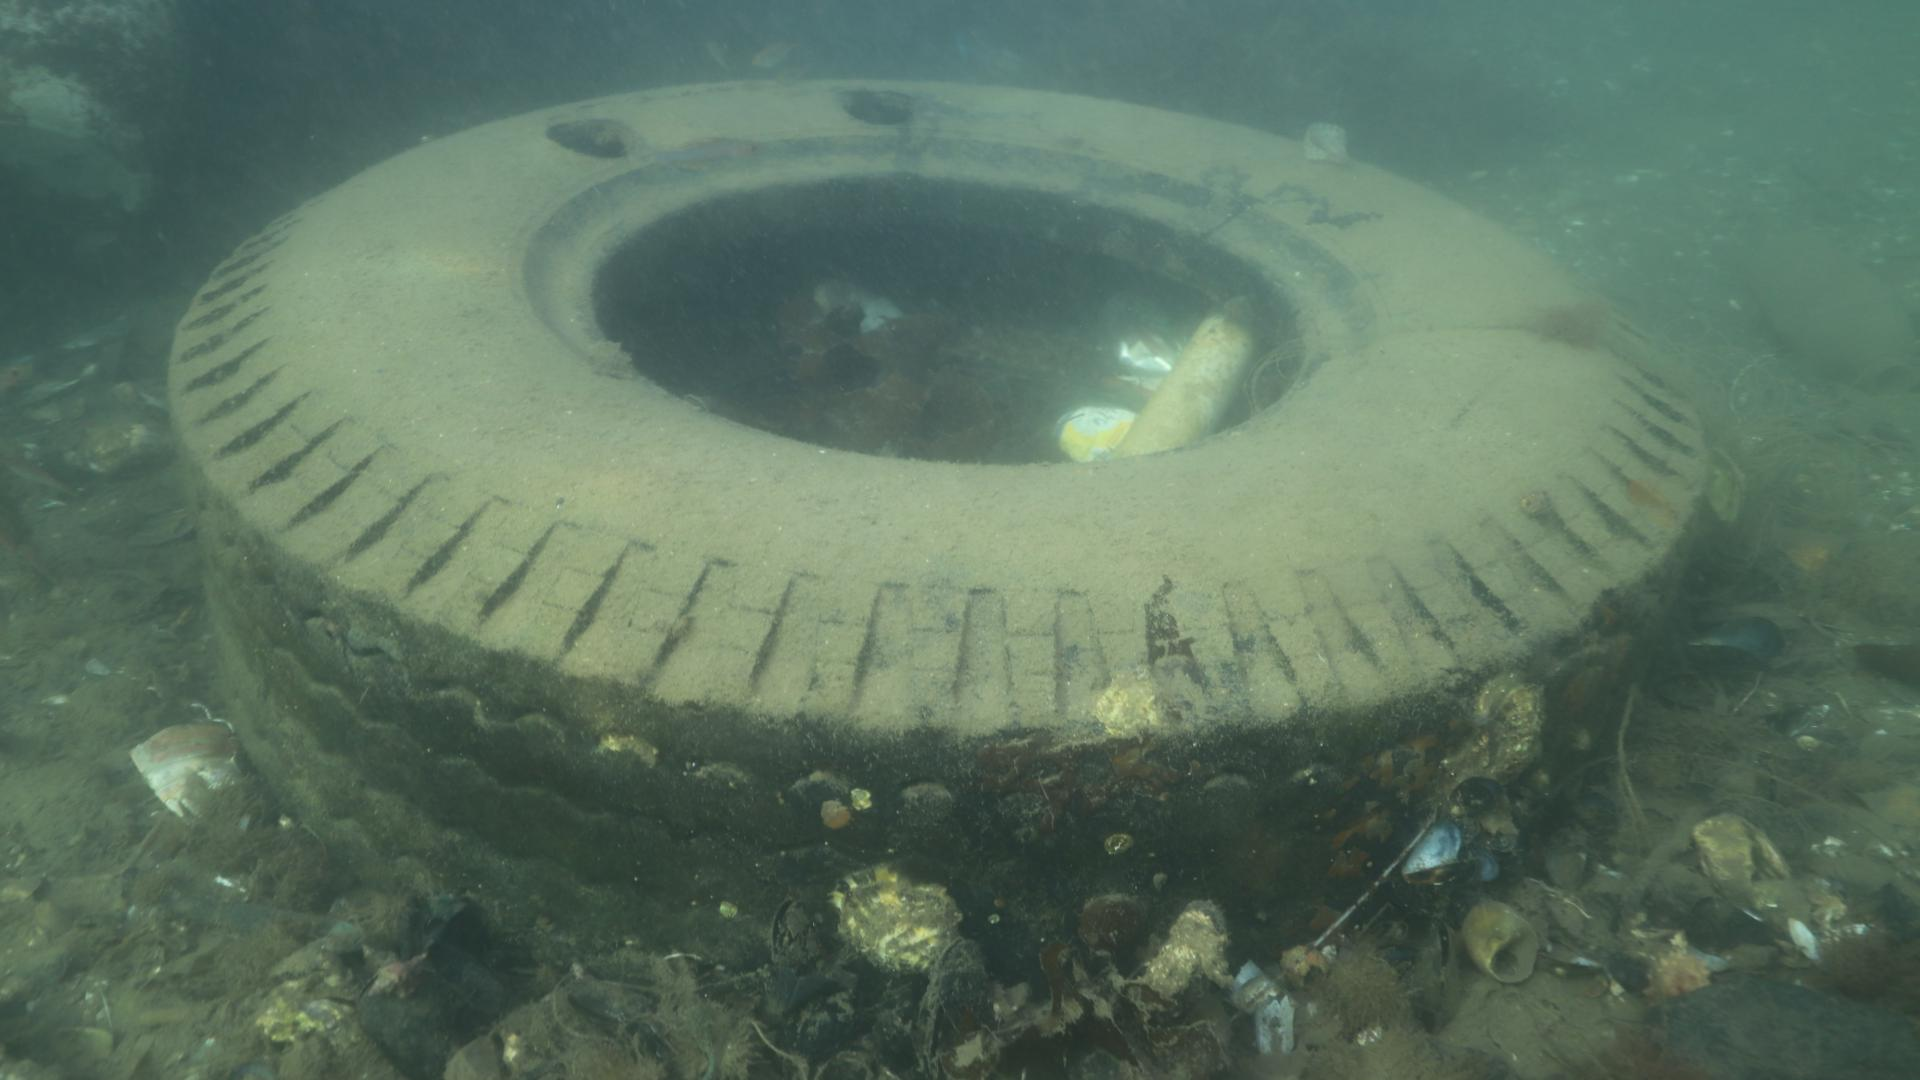tire: (166, 76, 1709, 1014)
